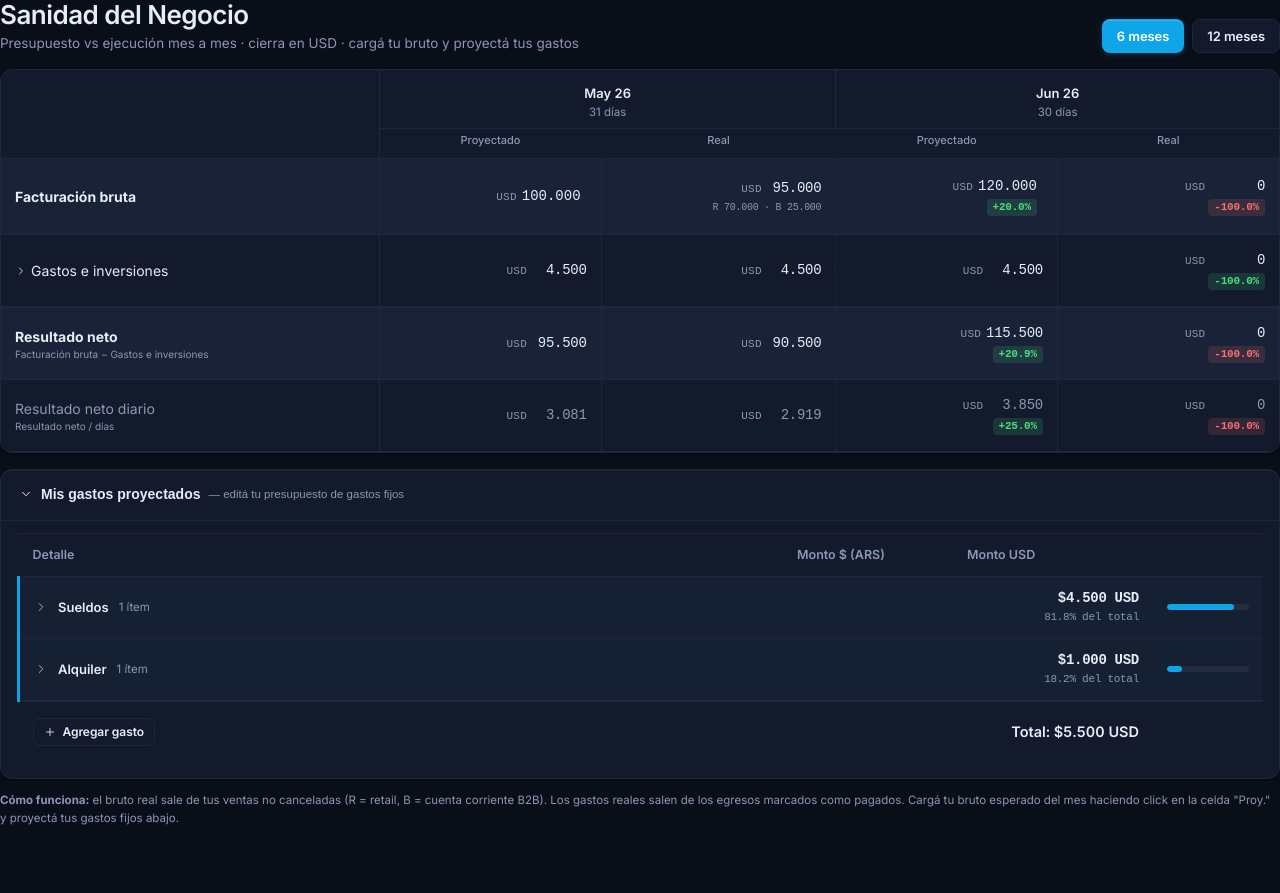
Test: Pantalla Sanidad del Negocio › botón "Agregar gasto" abre el form inline
The width and height of the screenshot is (1280, 893).
Click the button "Agregar gasto" at (94, 732), box top-left (32, 718), bottom-right (155, 746)
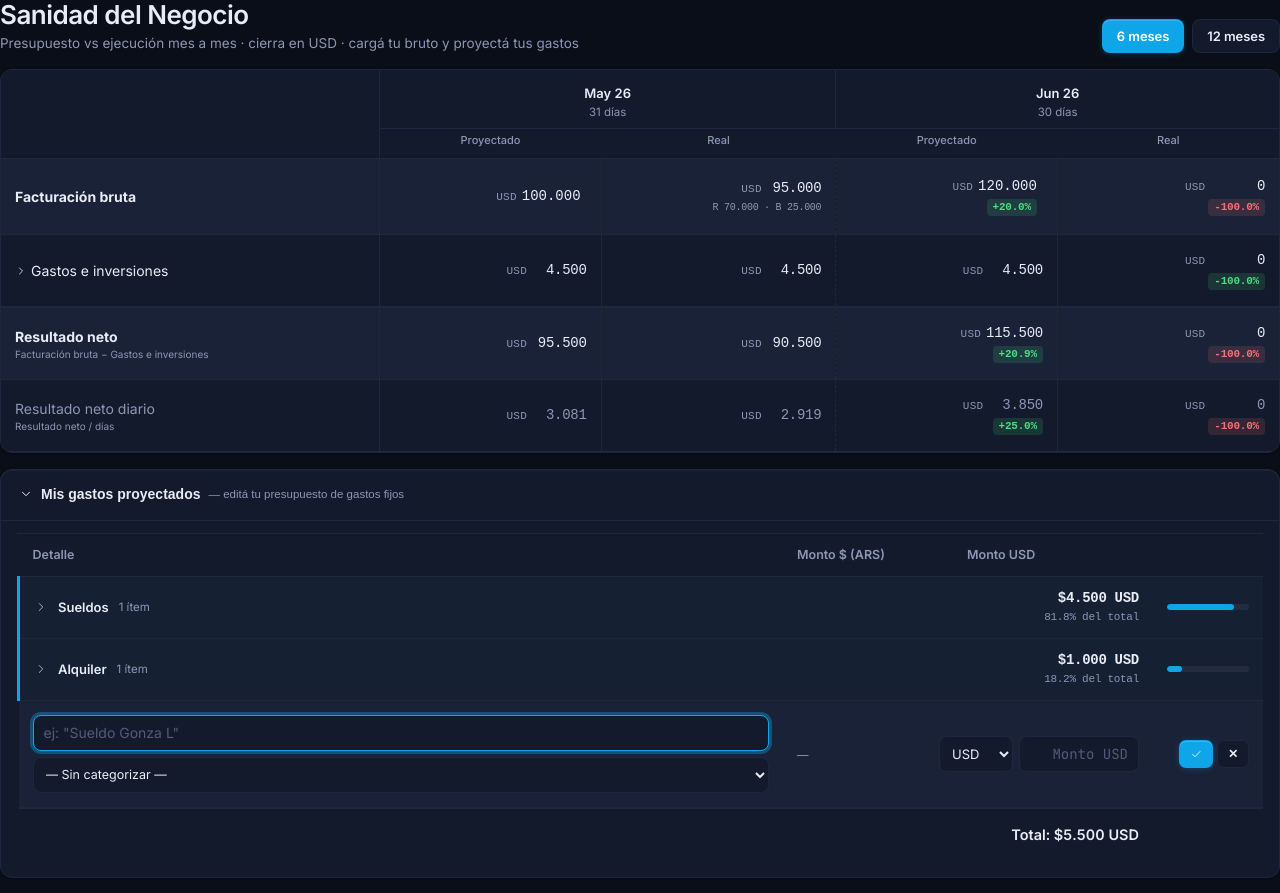
Now the field with placeholder "ej: \"Sueldo Gonza L\"" is shown, box top-left (32, 715), bottom-right (769, 751)
